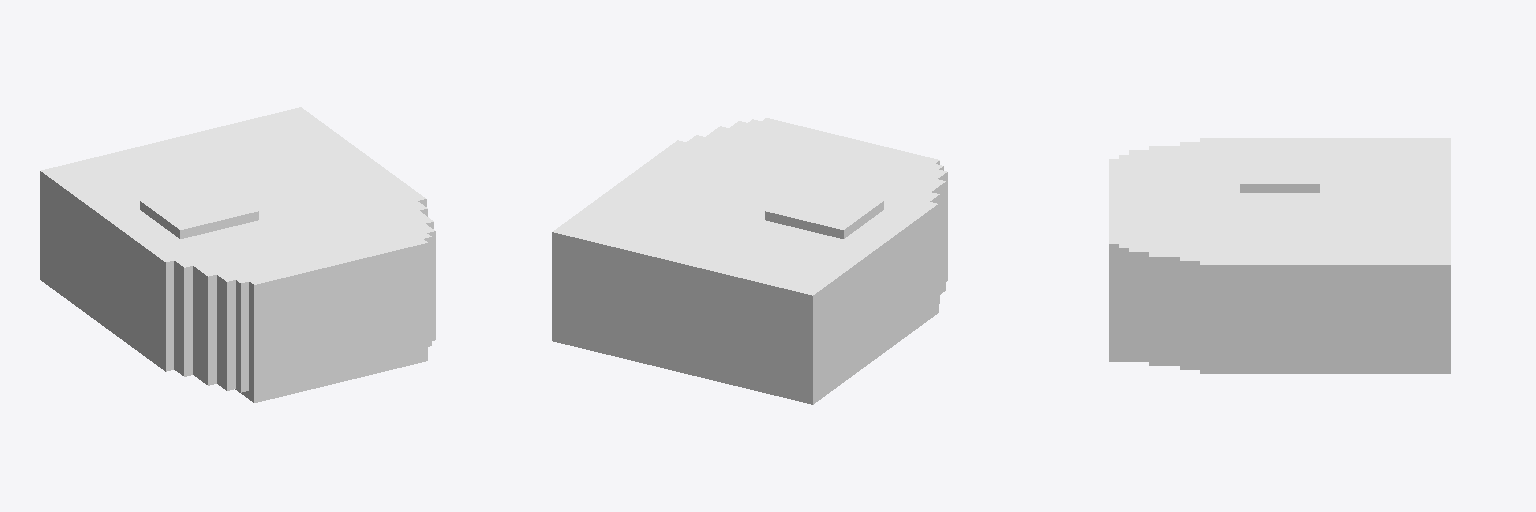
Rendered from bakhna.obj.
The picture shows the model from 3 angles: view 1: azimuth 30°, elevation 25°; view 2: azimuth 150°, elevation 25°; view 3: azimuth 270°, elevation 25°; orthographic projection.
Parts seen in each view (by area): view 1: object 1; view 2: object 1; view 3: object 1.
Boxes of the visible parts, x1=… form: object 1: x1=40, y1=107, x2=435, y2=402; object 1: x1=552, y1=118, x2=947, y2=404; object 1: x1=1109, y1=138, x2=1450, y2=373.
Bounding box in the file's own units: 3 × 1.4 × 3.4.